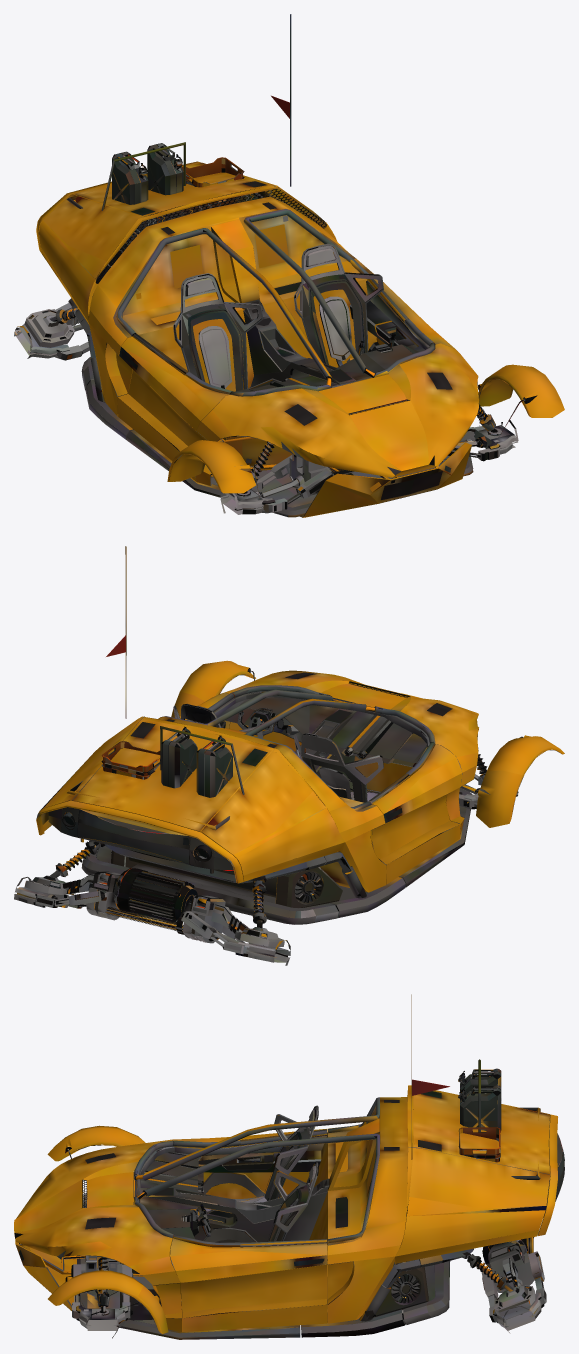
Rendered from buggy.glb.
The picture shows the model from 3 angles, top to bottom: view 1: azimuth 30°, elevation 25°; view 2: azimuth 150°, elevation 25°; view 3: azimuth 270°, elevation 25°; orthographic projection. The views are drawn at different scales.
Parts seen in each view (by area): view 1: buggy; view 2: buggy; view 3: buggy.
Part boxes in pixels (left/top/right/bottom): buggy: left=14, top=14, right=564, bottom=517; buggy: left=14, top=546, right=564, bottom=965; buggy: left=14, top=994, right=564, bottom=1339.
Size of the model in its own units: 2.91 by 2.73 by 4.22.
Materials: 4 (4 with a texture image).
